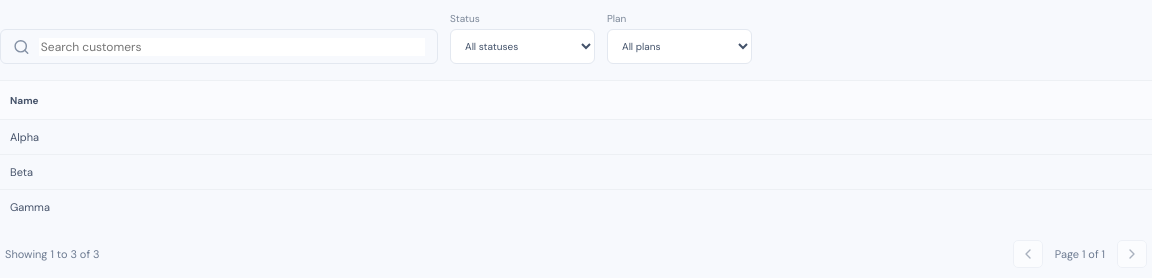
Test: DataTable › combines search and plan filters and clears search
Step 1. Type "a" into the field labelled "Search customers" → (232, 46), box [39,38,425,56]
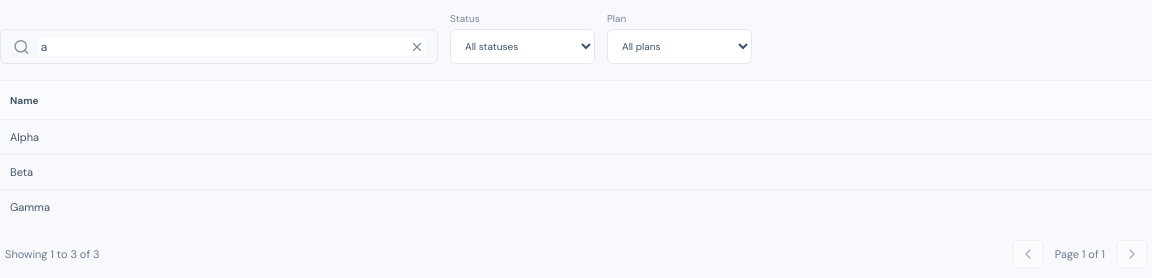
Step 2. Select "Premium" in the dropdown named "Filter by plan" → (680, 46), box [607,29,752,64]
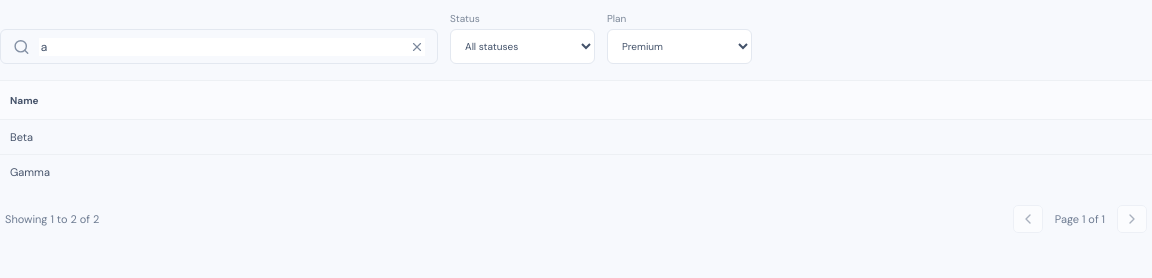
Expected: the text "Beta" is shown, [0,120,1151,154]
Result: the text "Alpha" is gone
Step 3. Click the button named "Clear search" → (417, 46), box [404,38,430,54]
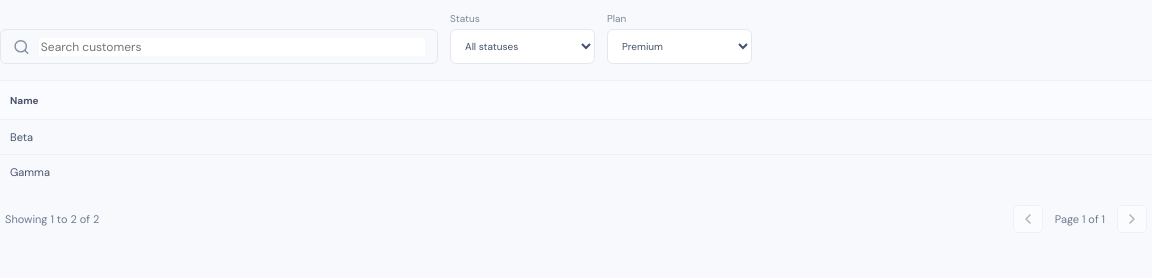
Result: the field labelled "Search customers" is empty at [39,38,425,56]
